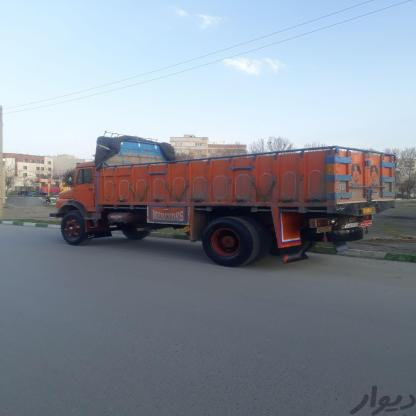Truck: (48, 136, 391, 262)
